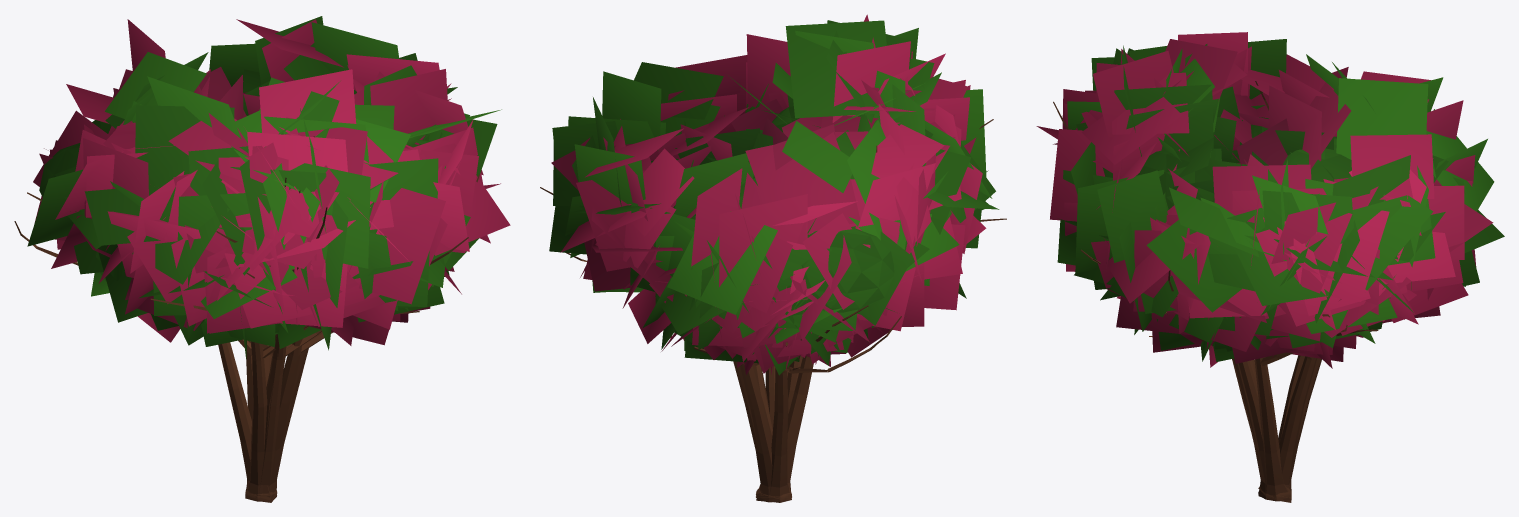
File: myrtle.glb
3 renders of one model, left to right at view 1: azimuth 30°, elevation 25°; view 2: azimuth 150°, elevation 25°; view 3: azimuth 270°, elevation 25°, orthographic. The views are drawn at different scales.
Parts seen in each view (by area): view 1: tree_myrtle_0, tree_myrtle_1, tree_myrtle_2; view 2: tree_myrtle_1, tree_myrtle_2, tree_myrtle_0; view 3: tree_myrtle_0, tree_myrtle_1, tree_myrtle_2.
Part boxes in pixels (left/top/right/bottom): tree_myrtle_0: left=44, top=19, right=510, bottom=502; tree_myrtle_1: left=14, top=16, right=490, bottom=502; tree_myrtle_2: left=27, top=53, right=483, bottom=502; tree_myrtle_1: left=549, top=14, right=999, bottom=502; tree_myrtle_2: left=540, top=58, right=995, bottom=502; tree_myrtle_0: left=551, top=20, right=1006, bottom=499; tree_myrtle_0: left=1036, top=45, right=1476, bottom=501; tree_myrtle_1: left=1053, top=44, right=1493, bottom=499; tree_myrtle_2: left=1091, top=32, right=1504, bottom=502.
Bounding box in the file's own units: 6.12 × 6.4 × 6.17.
